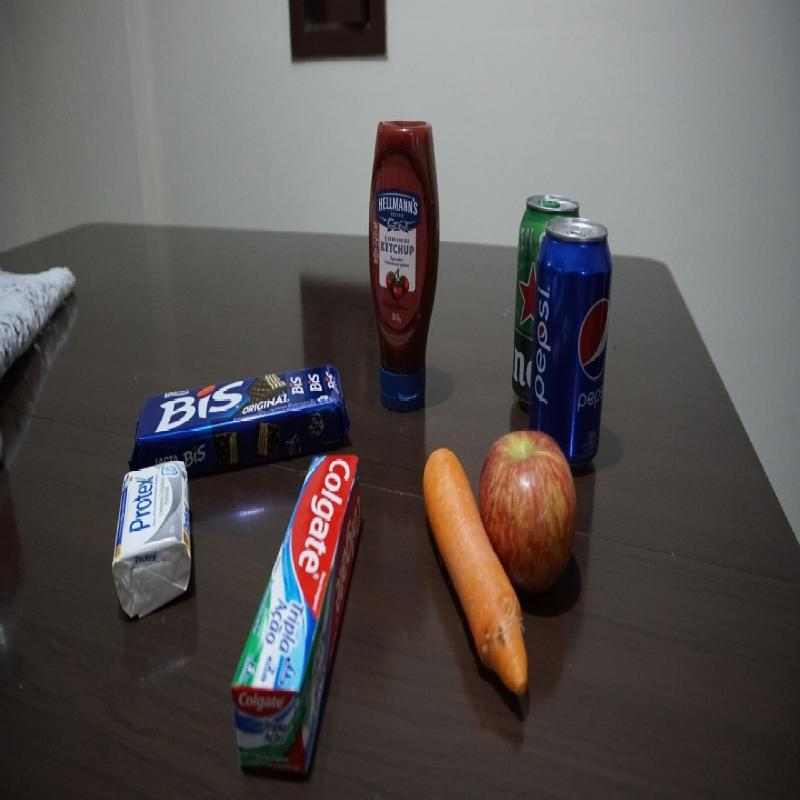Apple: (492, 424, 582, 599)
Beer can: (509, 194, 538, 405)
Carrot: (420, 440, 488, 674)
Ketchup: (365, 112, 437, 418)
Soap: (111, 460, 194, 620)
Soda can: (541, 214, 613, 410)
Toothpaste: (232, 457, 367, 764)
